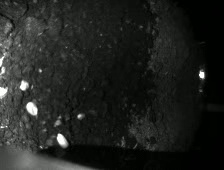corn: (54, 131, 72, 152), (23, 99, 39, 117), (18, 77, 31, 94), (75, 110, 86, 120)
